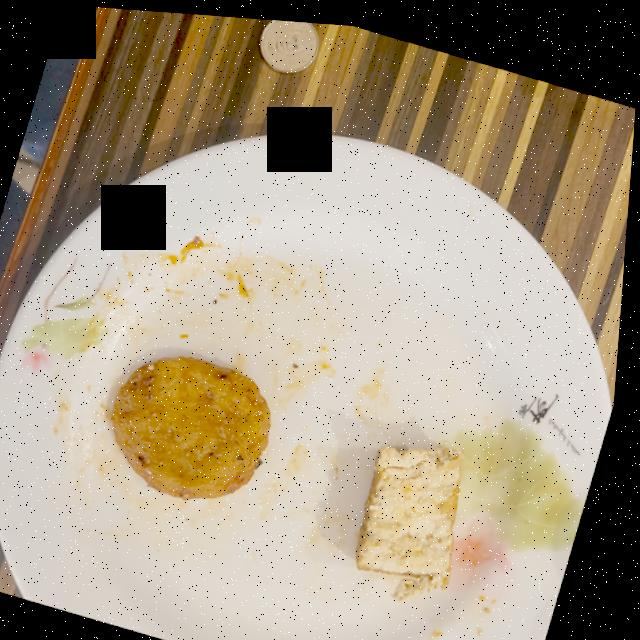coin: (259, 16, 318, 68)
egg tofu: (363, 439, 469, 594)
fish cake: (116, 352, 276, 496)
